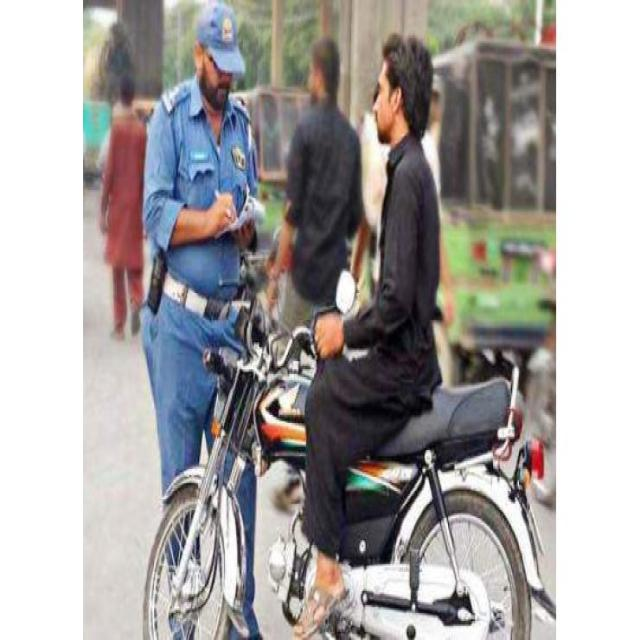without helmet: (369, 32, 439, 153)
